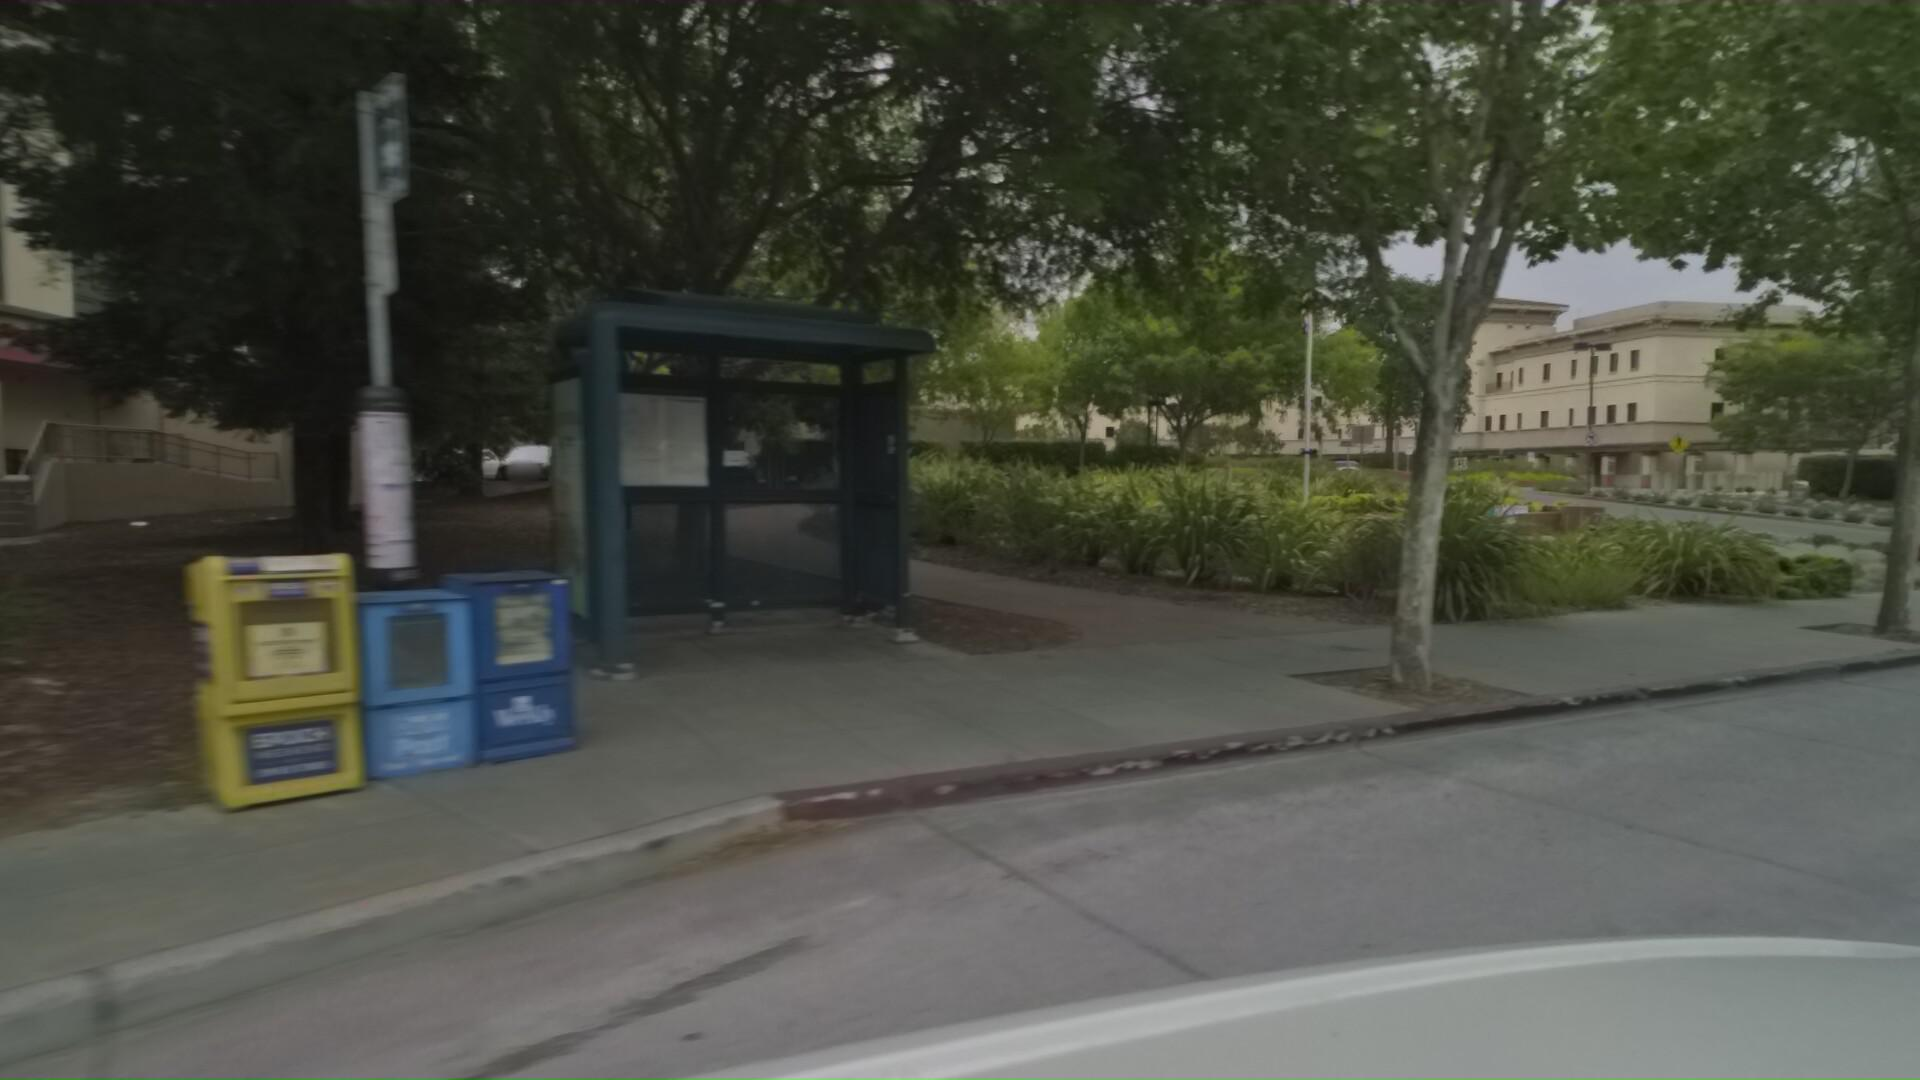car: (502, 444, 588, 498)
